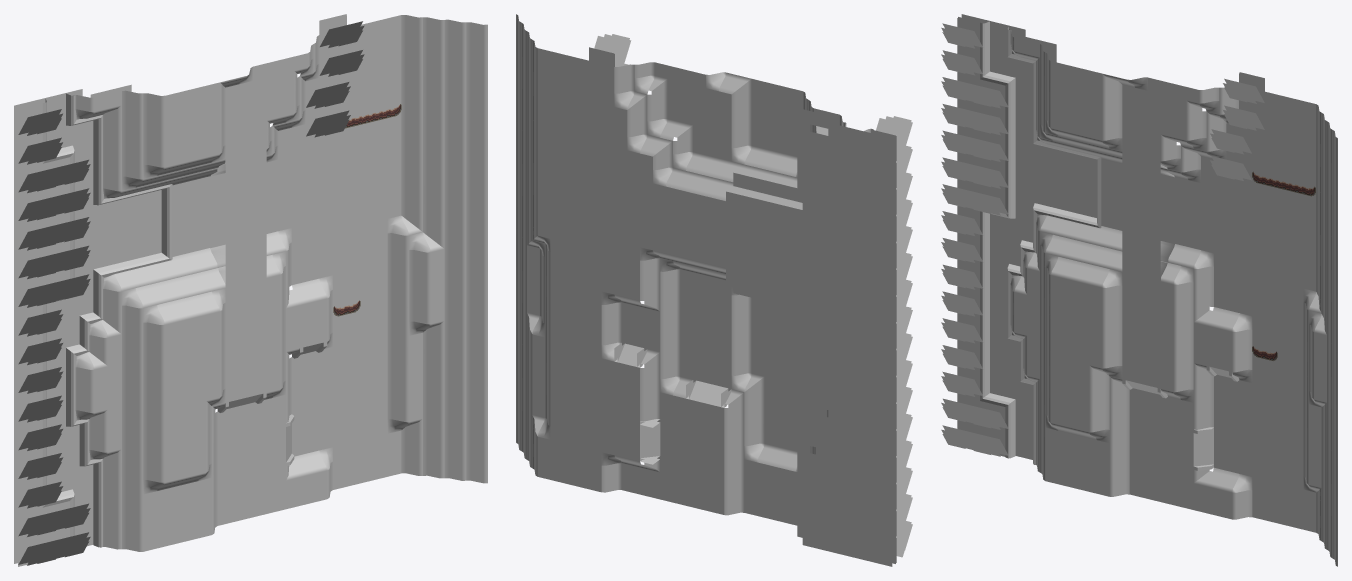
The model's file is Plat_full_05_13.obj.
The picture shows the model from 3 angles, left to right: view 1: azimuth 30°, elevation 25°; view 2: azimuth 150°, elevation 25°; view 3: azimuth 330°, elevation 25°; orthographic projection. The views are drawn at different scales.
Visible parts, largest first — view 1: map; view 2: map; view 3: map.
Boxes of the visible parts, bbox=[...] form: map: bbox=[14, 14, 487, 566]; map: bbox=[516, 14, 912, 566]; map: bbox=[941, 14, 1337, 566].
Size of the model in its own units: 32.25 by 33.12 by 4.5.
